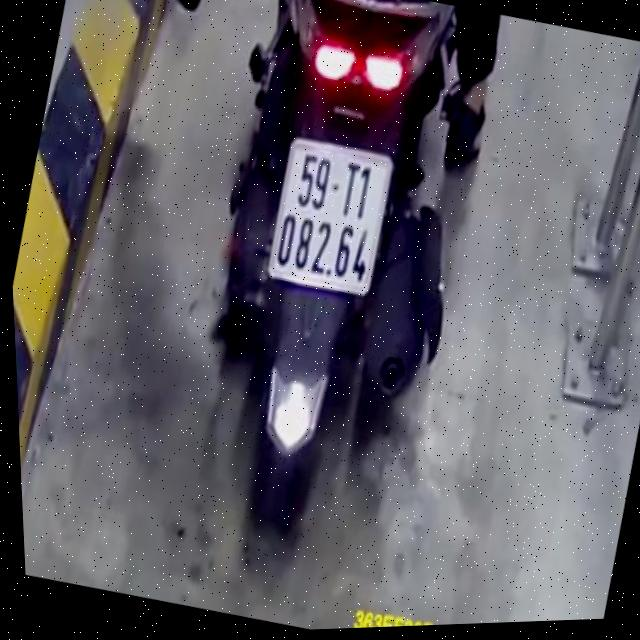motorcycle: (140, 0, 531, 566)
plate: (251, 127, 405, 303)
